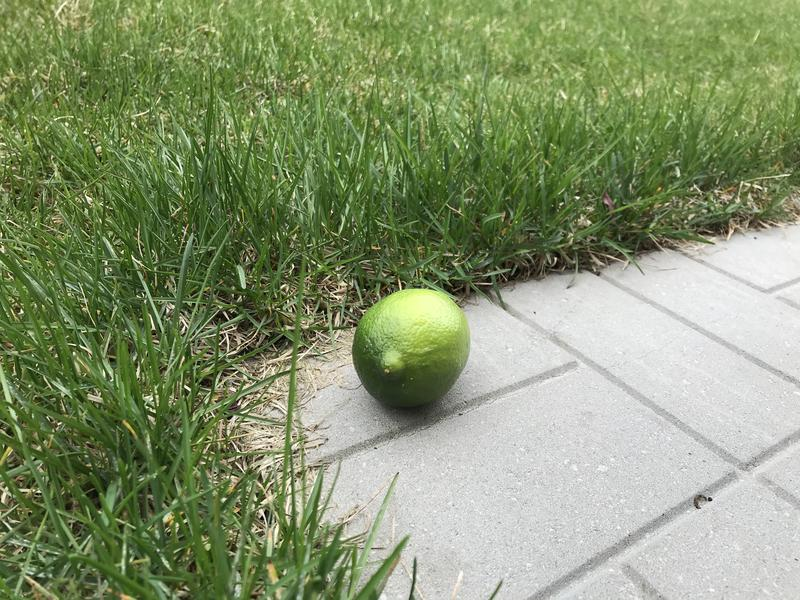lime: (341, 275, 484, 429)
